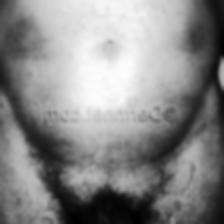Potentially Malignant Skin Tumors: (24, 124, 175, 168), (11, 10, 49, 57), (155, 23, 203, 53)
